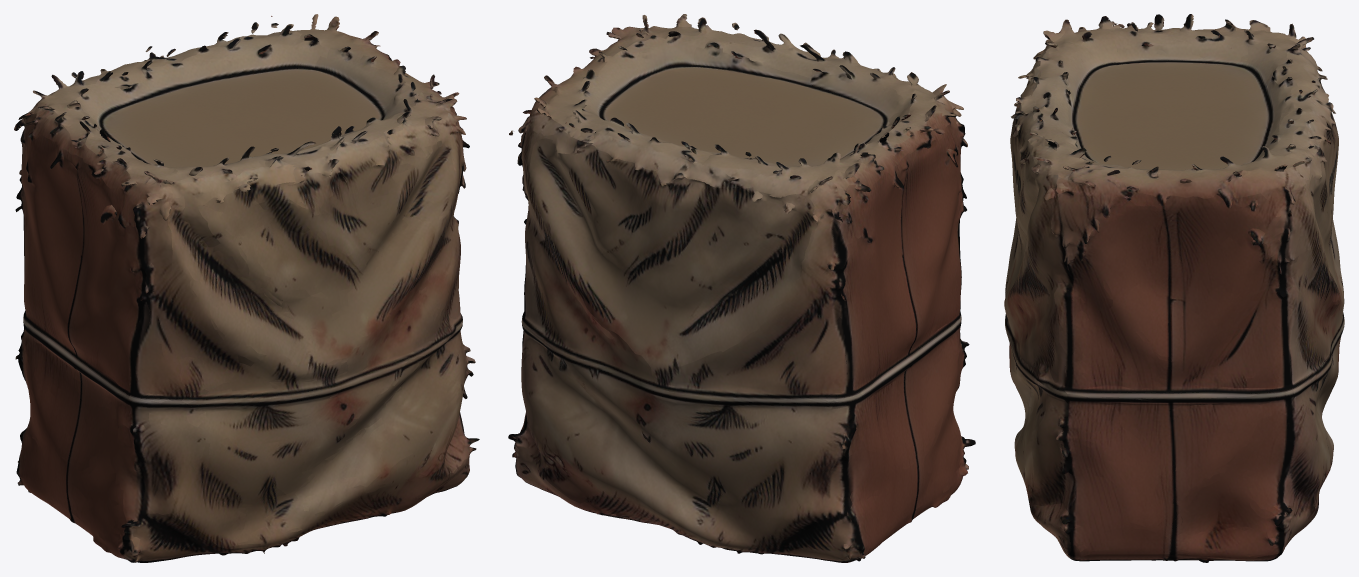
Rendered from catalog-material-2.glb.
3 renders of one model, left to right at view 1: azimuth 30°, elevation 25°; view 2: azimuth 150°, elevation 25°; view 3: azimuth 270°, elevation 25°, orthographic.
Parts seen in each view (by area): view 1: tmpv1trb_z1.ply; view 2: tmpv1trb_z1.ply; view 3: tmpv1trb_z1.ply.
Part boxes in pixels (bbox=[...]): tmpv1trb_z1.ply: bbox=[14, 14, 479, 562]; tmpv1trb_z1.ply: bbox=[508, 14, 975, 562]; tmpv1trb_z1.ply: bbox=[1004, 14, 1344, 562].
Size of the model in its own units: 1.85 by 1.97 by 1.52.
1 material, 1 textured.
